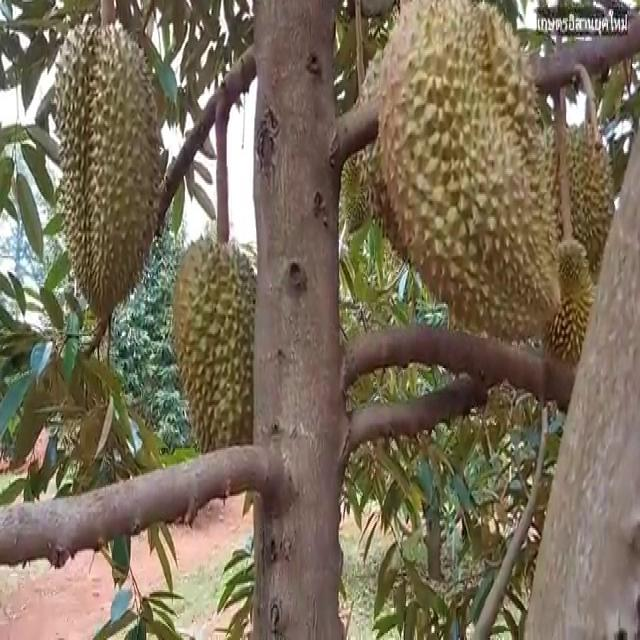durian: (372, 0, 565, 347), (44, 18, 168, 327), (168, 233, 280, 497), (536, 109, 619, 310), (536, 231, 609, 390)
